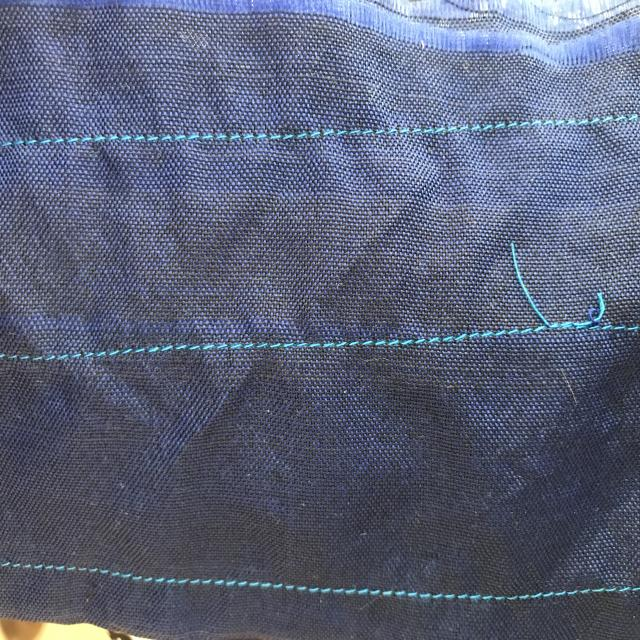good: (189, 566, 560, 610), (100, 118, 377, 152), (97, 336, 398, 361), (30, 554, 153, 598), (393, 118, 531, 144), (423, 328, 522, 359), (12, 129, 75, 155), (8, 348, 73, 372)
